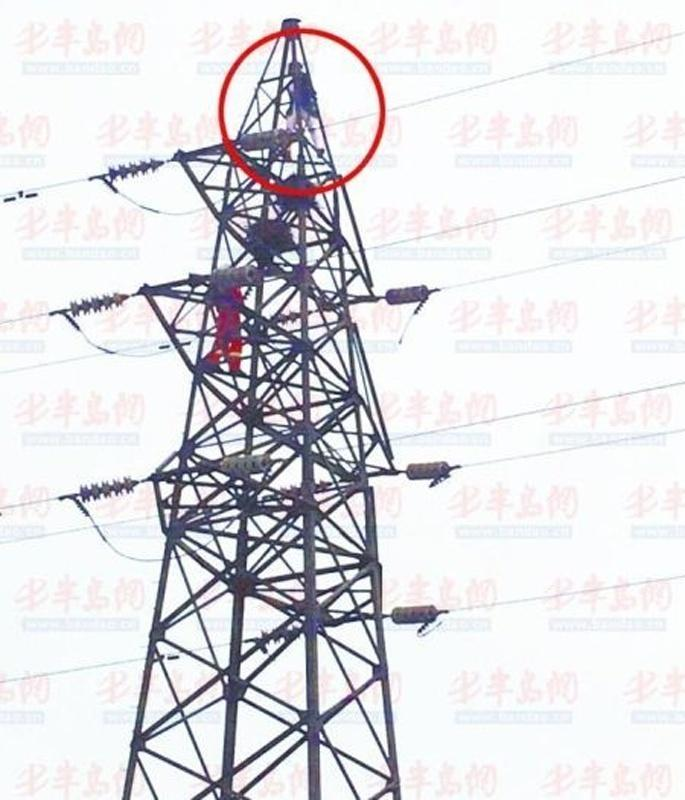power_tower: (96, 12, 427, 796)
